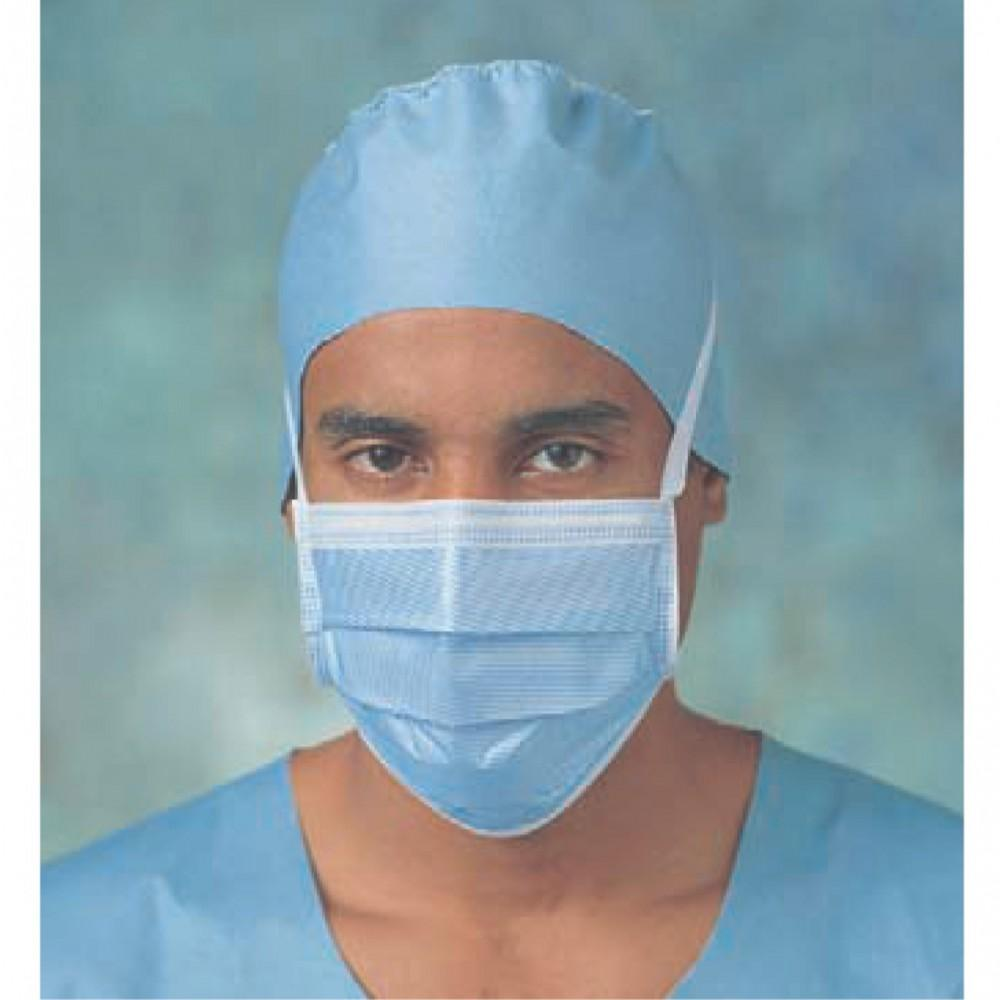Wearing Mask: (183, 26, 852, 872)
